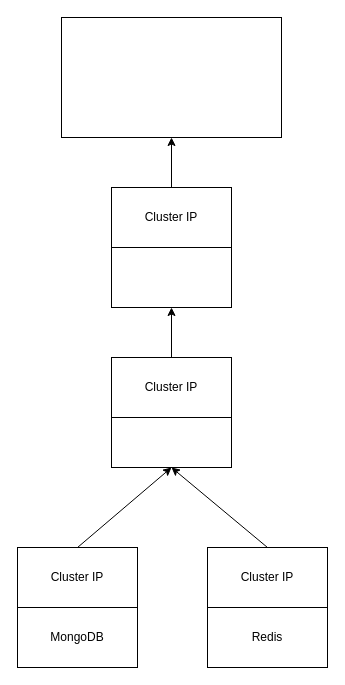
The diagram is 345 pixels wide and 685 high, and some of its shapes have lost their labels. Each missing label, with the centre of its shape:
"client" belongs at (x=171, y=277).
"Ingress" belongs at (x=171, y=77).
"server" belongs at (x=171, y=437).
